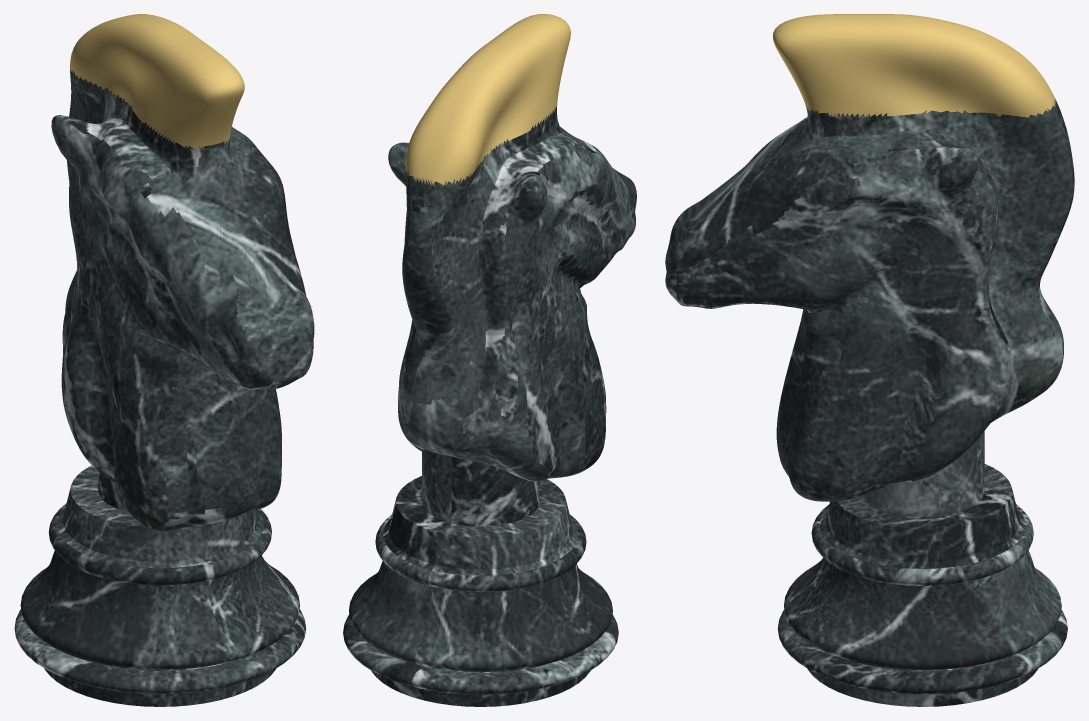
3 views of the same model, side by side, from view 1: azimuth 30°, elevation 25°; view 2: azimuth 150°, elevation 25°; view 3: azimuth 270°, elevation 25° (orthographic). The views are drawn at different scales.
Parts seen in each view (by area): view 1: x; view 2: x; view 3: x.
Boxes of the visible parts, <box> form: x: <box>14,14,314,706</box>; x: <box>343,14,636,706</box>; x: <box>665,14,1074,706</box>.
Size of the model in its own units: 0.3718 by 0.9 by 0.5244.
2 materials, 1 textured.
